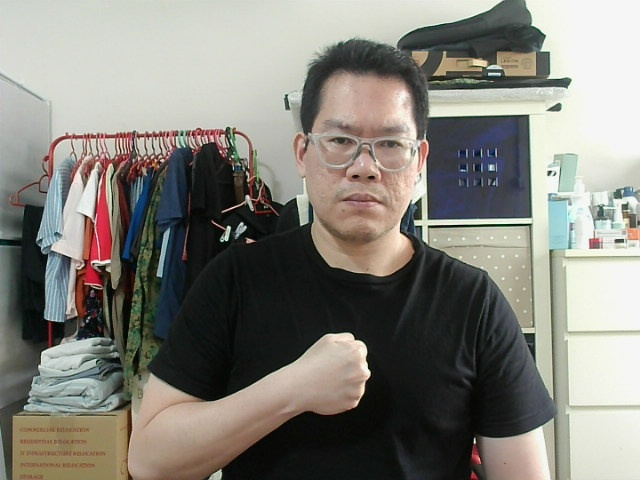sorry: (296, 337, 362, 405)
